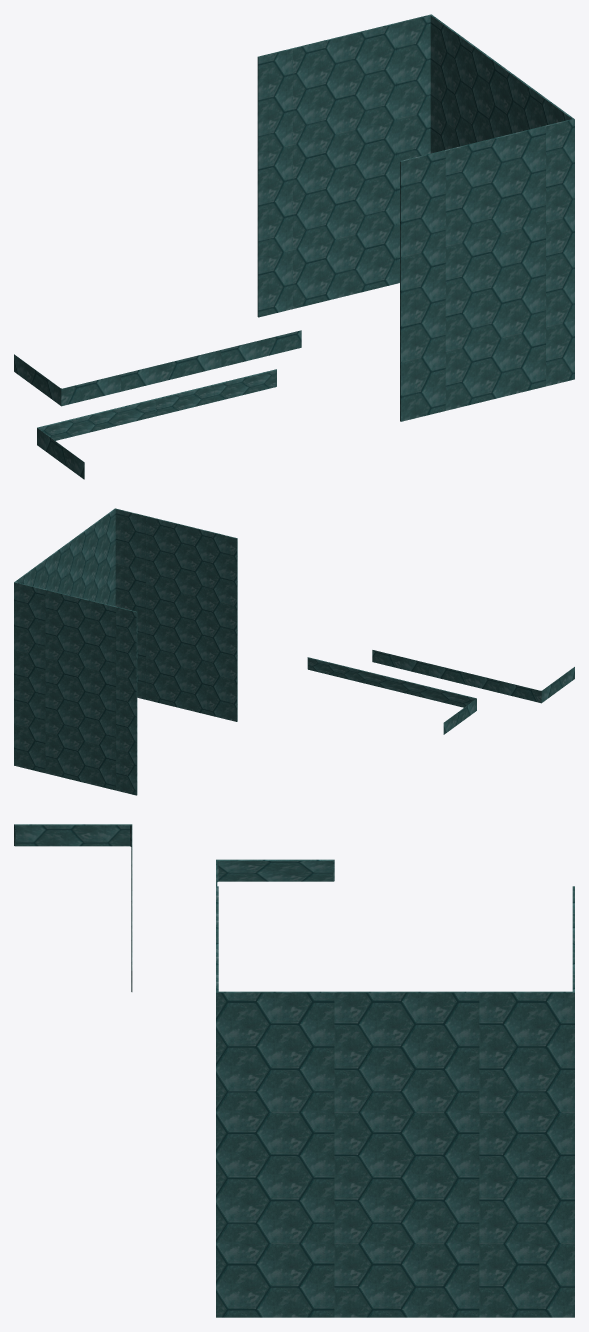
The model's file is 2345_bathroom_BP_Zellige_Mystique.gltf.
3 renders of one model, top to bottom at view 1: azimuth 30°, elevation 25°; view 2: azimuth 150°, elevation 25°; view 3: azimuth 270°, elevation 25°, orthographic. The views are drawn at different scales.
Parts seen in each view (by area): view 1: Zellige_Mystique.002; view 2: Zellige_Mystique.002; view 3: Zellige_Mystique.002.
Part boxes in pixels (box(x1,y1,x2,y2)): Zellige_Mystique.002: box(14, 14, 574, 479); Zellige_Mystique.002: box(14, 508, 574, 795); Zellige_Mystique.002: box(14, 824, 574, 1317).
Size of the model in its own units: 6.9 by 3 by 4.69.
Materials: 1 (1 with a texture image).
